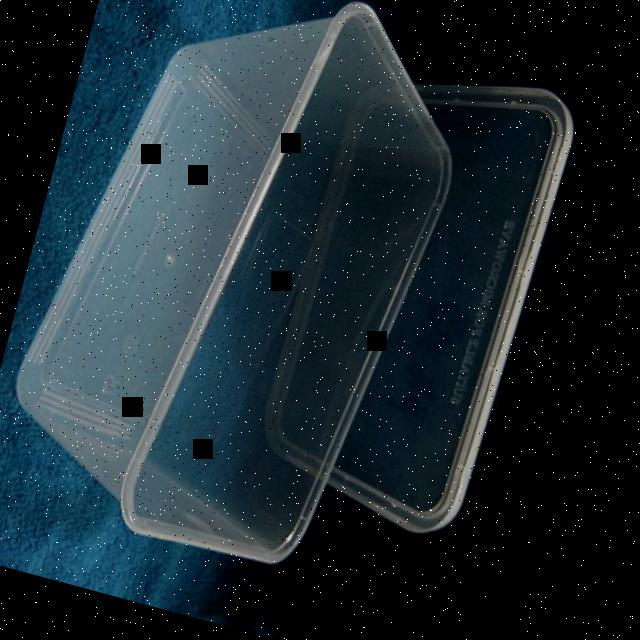plastic_box: (0, 0, 597, 625)
